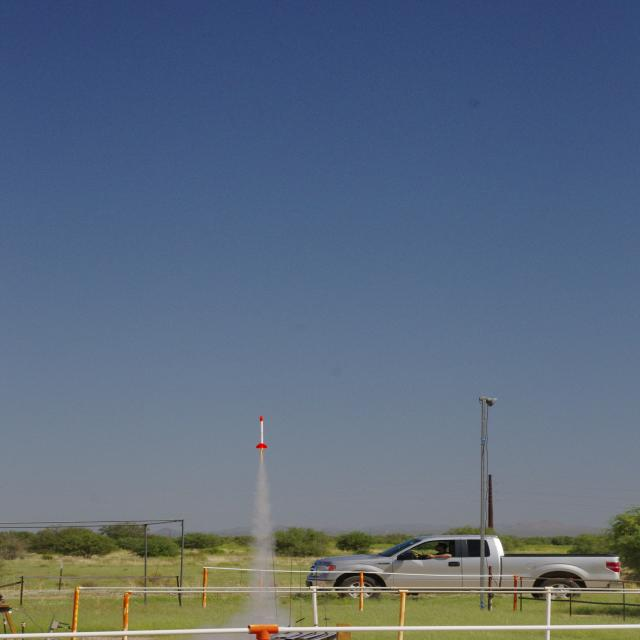Rocket: (255, 415, 268, 450)
